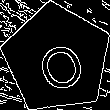O_NW: (27, 26, 87, 91)
